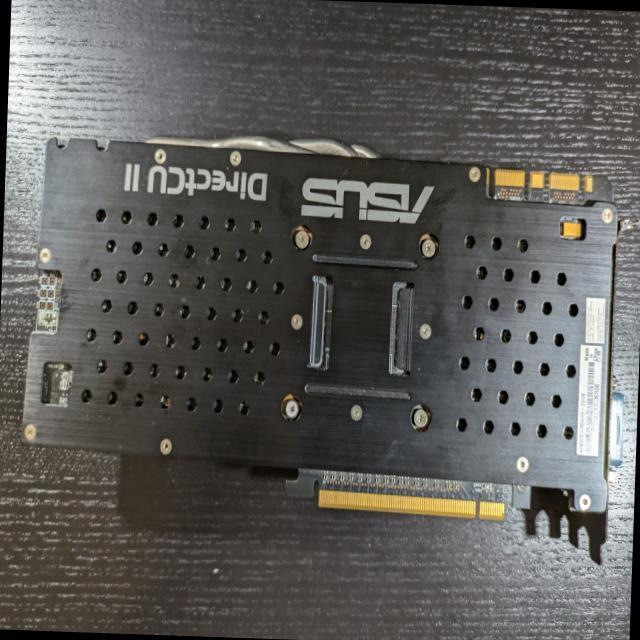GPU: (25, 126, 618, 539)
